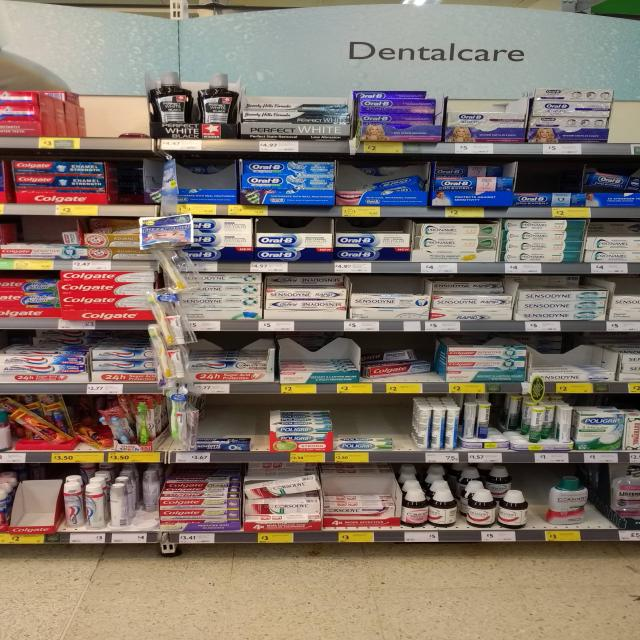void: (90, 66, 150, 150), (110, 158, 169, 215), (172, 157, 228, 217), (612, 85, 640, 154)
